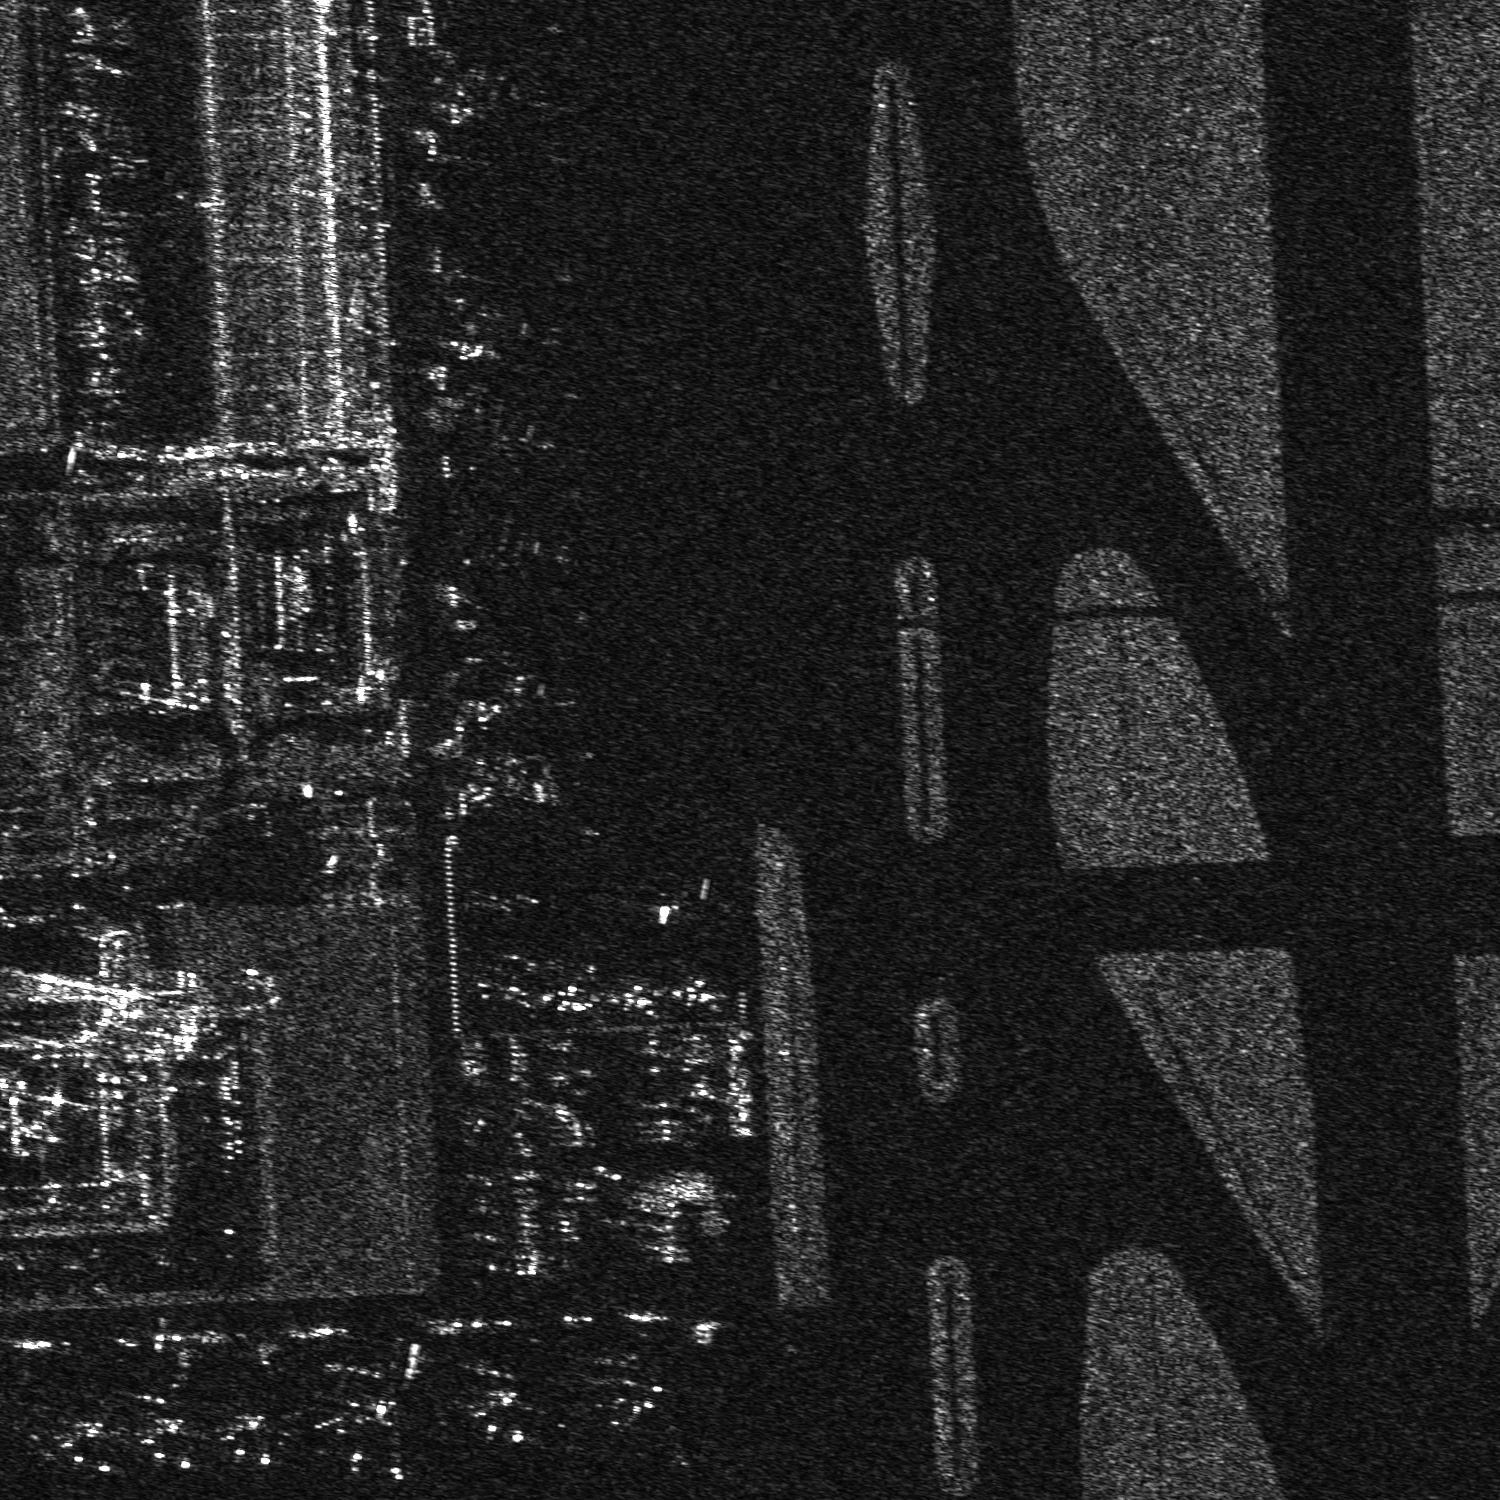A220: (457, 670, 578, 742)
A320/321: (452, 507, 580, 610)
ARJ21: (543, 981, 600, 1014)
Boeing737: (470, 1365, 545, 1445), (596, 1359, 670, 1423), (130, 1413, 206, 1474), (220, 1409, 293, 1466), (54, 1419, 124, 1473)
other: (313, 1386, 446, 1481), (473, 415, 560, 481), (607, 977, 663, 1018), (670, 975, 728, 1015)
